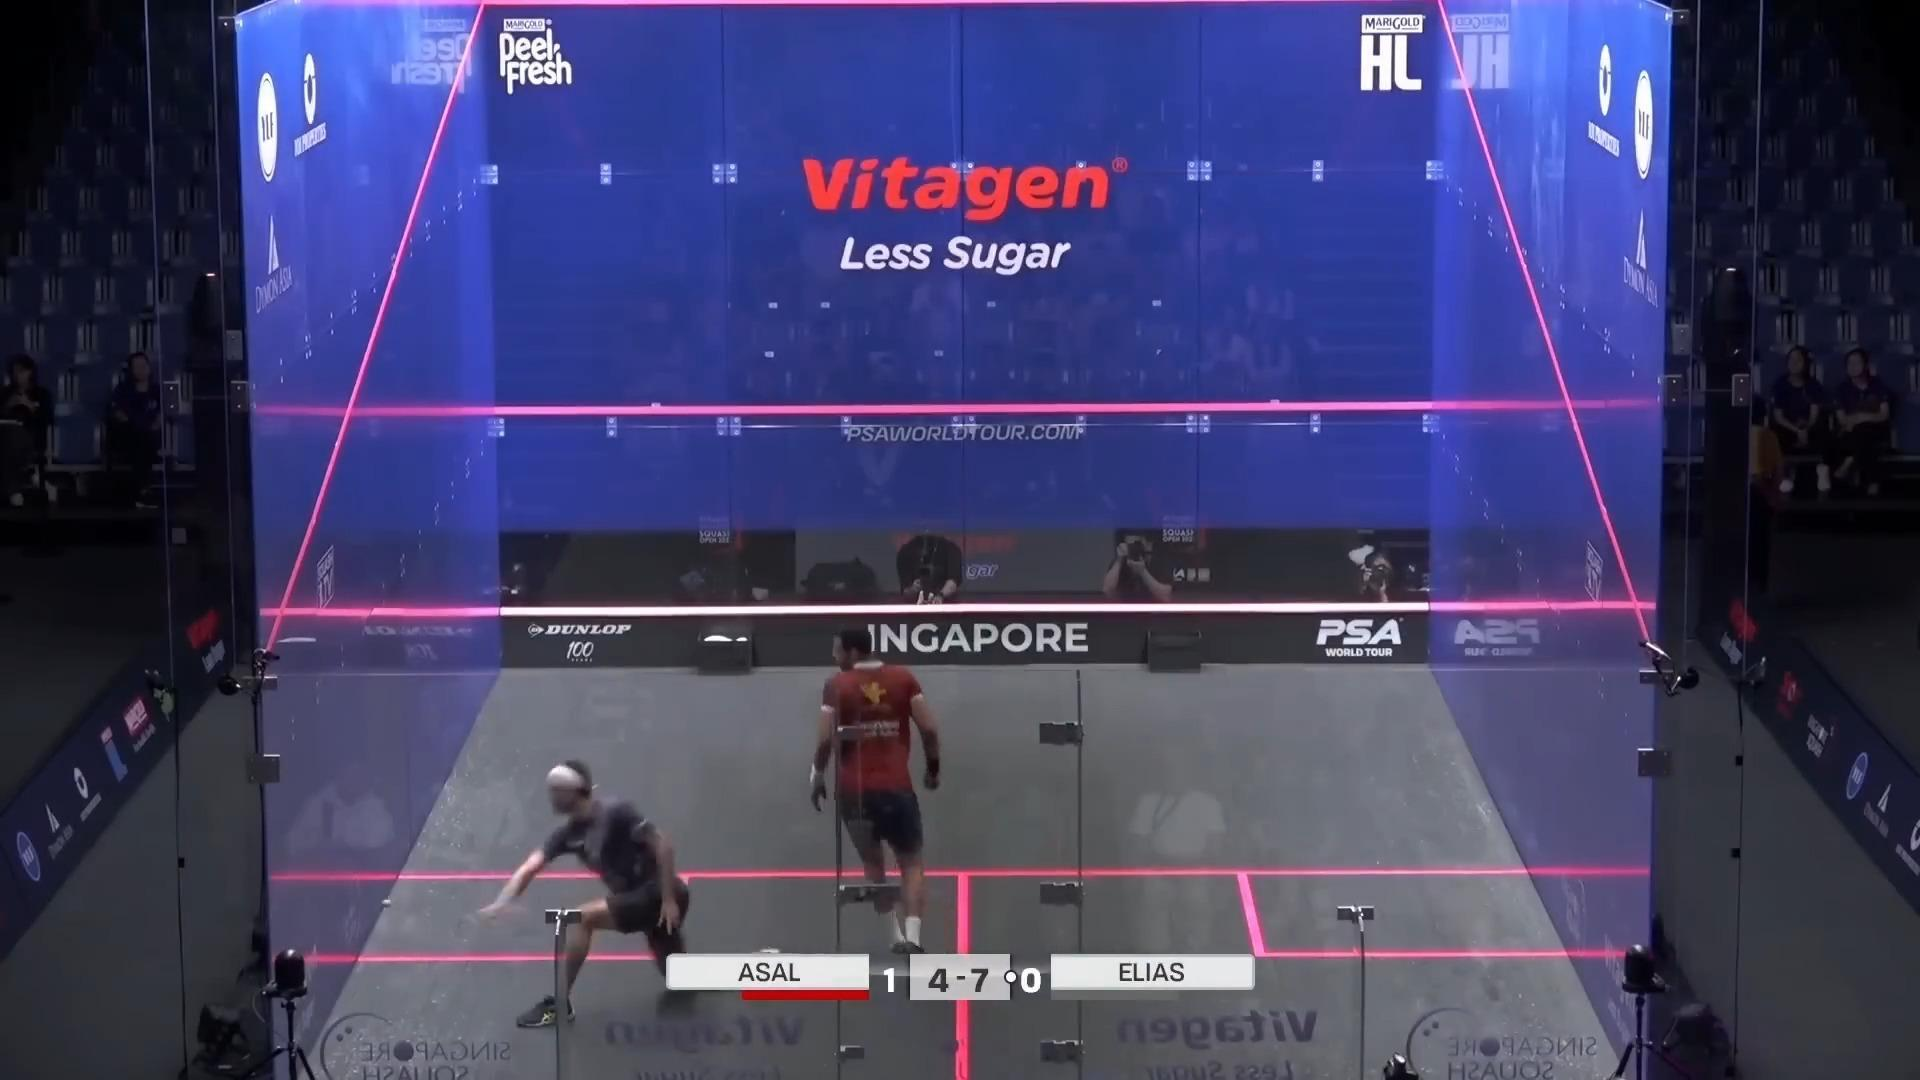Squash-Ball: (377, 887, 401, 918)
